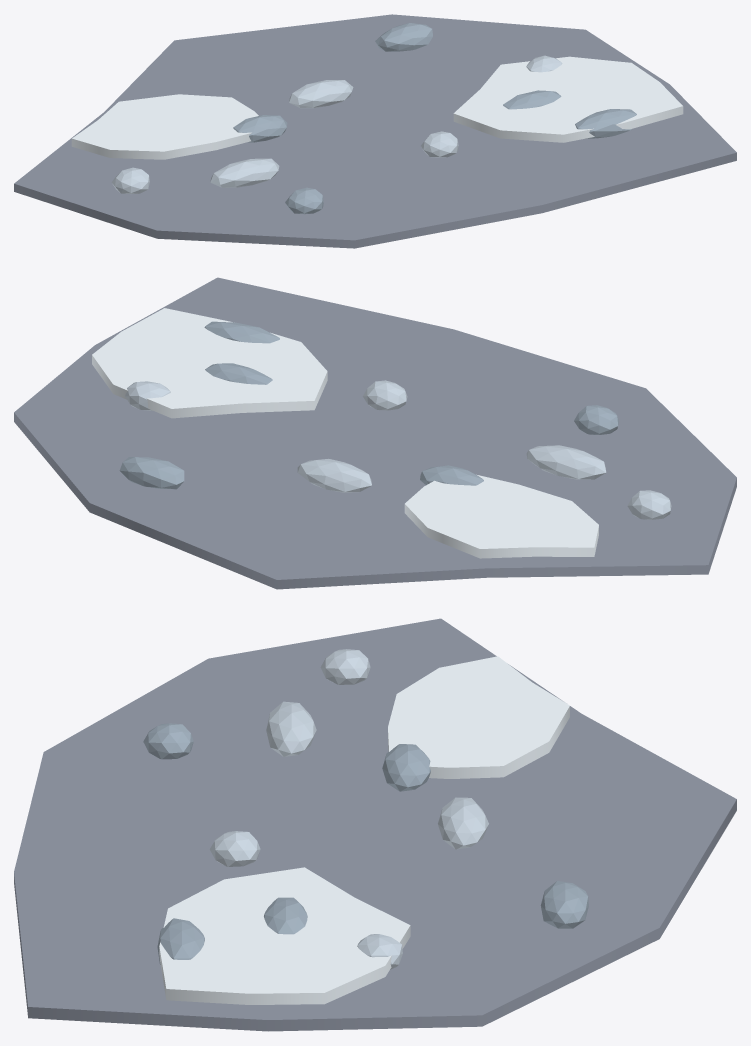
The model's file is patch-gravel-snowy.glb.
3 views of the same model, one above another, from view 1: azimuth 30°, elevation 25°; view 2: azimuth 150°, elevation 25°; view 3: azimuth 270°, elevation 25° (orthographic). The views are drawn at different scales.
Visible parts, largest first — view 1: patch-gravel-kit-snowy-soil, patch-gravel-kit-snowy-top, patch-gravel-kit-snowy-stone, patch-gravel-kit-snowy-light; view 2: patch-gravel-kit-snowy-soil, patch-gravel-kit-snowy-top, patch-gravel-kit-snowy-light, patch-gravel-kit-snowy-stone; view 3: patch-gravel-kit-snowy-soil, patch-gravel-kit-snowy-top, patch-gravel-kit-snowy-light, patch-gravel-kit-snowy-stone.
Part boxes in pixels (x1=…): patch-gravel-kit-snowy-soil: x1=14, y1=14, x2=736, y2=248; patch-gravel-kit-snowy-top: x1=71, y1=56, x2=683, y2=159; patch-gravel-kit-snowy-stone: x1=233, y1=23, x2=636, y2=214; patch-gravel-kit-snowy-light: x1=111, y1=55, x2=562, y2=194; patch-gravel-kit-snowy-soil: x1=14, y1=277, x2=736, y2=589; patch-gravel-kit-snowy-top: x1=92, y1=308, x2=598, y2=558; patch-gravel-kit-snowy-light: x1=125, y1=380, x2=671, y2=519; patch-gravel-kit-snowy-stone: x1=119, y1=321, x2=618, y2=489; patch-gravel-kit-snowy-soil: x1=14, y1=618, x2=736, y2=1031; patch-gravel-kit-snowy-top: x1=159, y1=656, x2=569, y2=1004; patch-gravel-kit-snowy-light: x1=209, y1=649, x2=488, y2=969; patch-gravel-kit-snowy-stone: x1=143, y1=723, x2=588, y2=964.
Size of the model in its own units: 2.66 by 0.1125 by 2.02.
